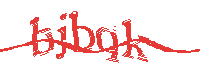b: (70, 13, 95, 56), (31, 16, 54, 60)
j: (55, 12, 70, 59)
k: (120, 16, 152, 65)
q: (95, 21, 121, 66)
